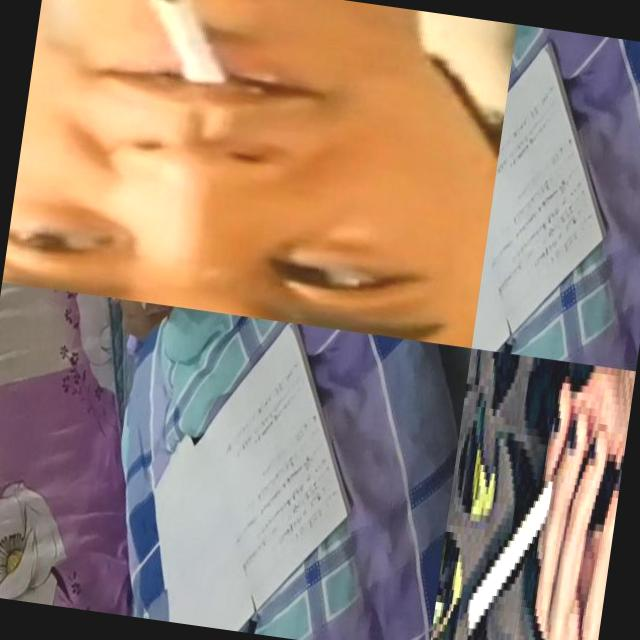smoke: (462, 452, 567, 640), (136, 0, 245, 100)
